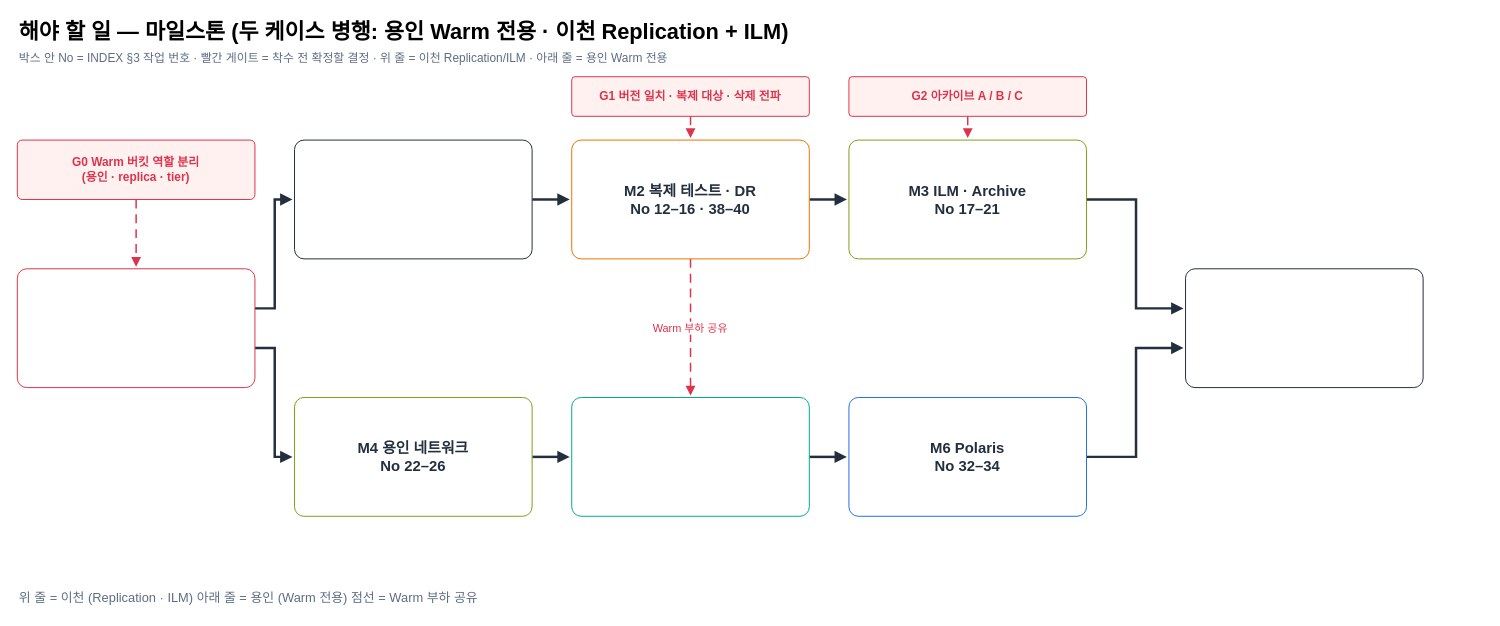
Some shapes in this 1500 by 626 pixel diagram are drawn without their labels. Each missing label, with the box of its shape:
M0 담당자 확인 No 1–3: (16, 268, 255, 388)
M1 근거 · 설계 No 4–11 · 36–37 🚨: (294, 139, 532, 259)
M5 HMS-Warm No 27–31: (571, 396, 809, 516)
M7 운영 이관 No 35: (1185, 268, 1423, 388)
